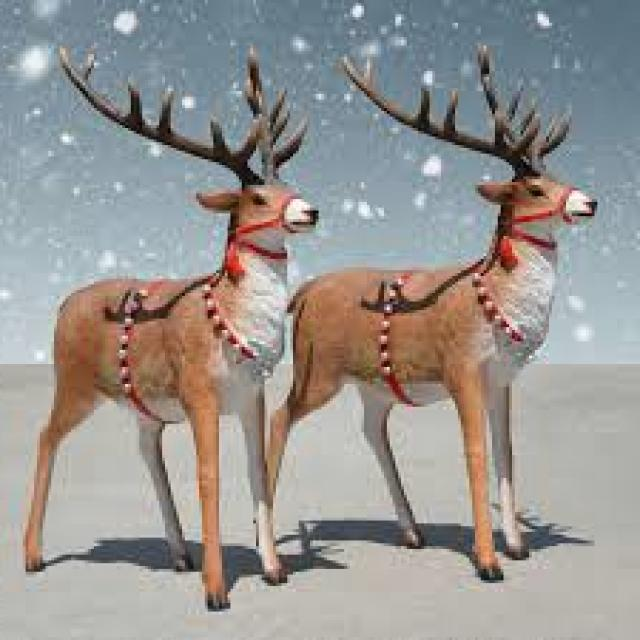reindeer: (270, 46, 597, 577), (26, 48, 319, 609)
